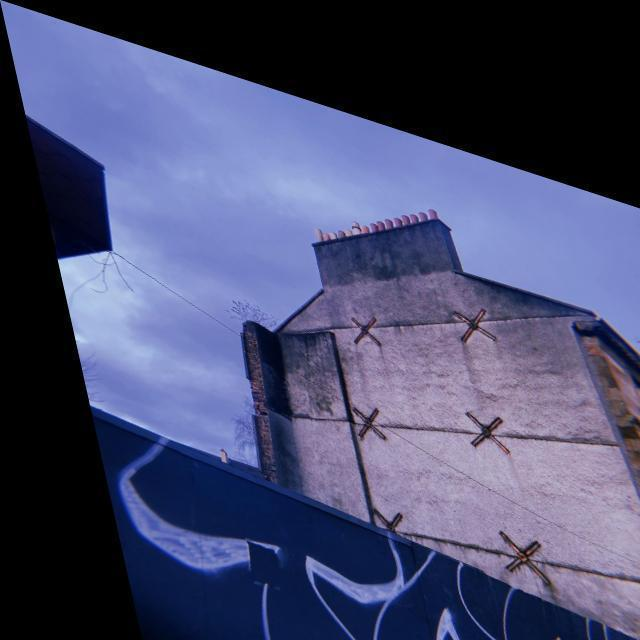nonspitting: (114, 436, 609, 640)
